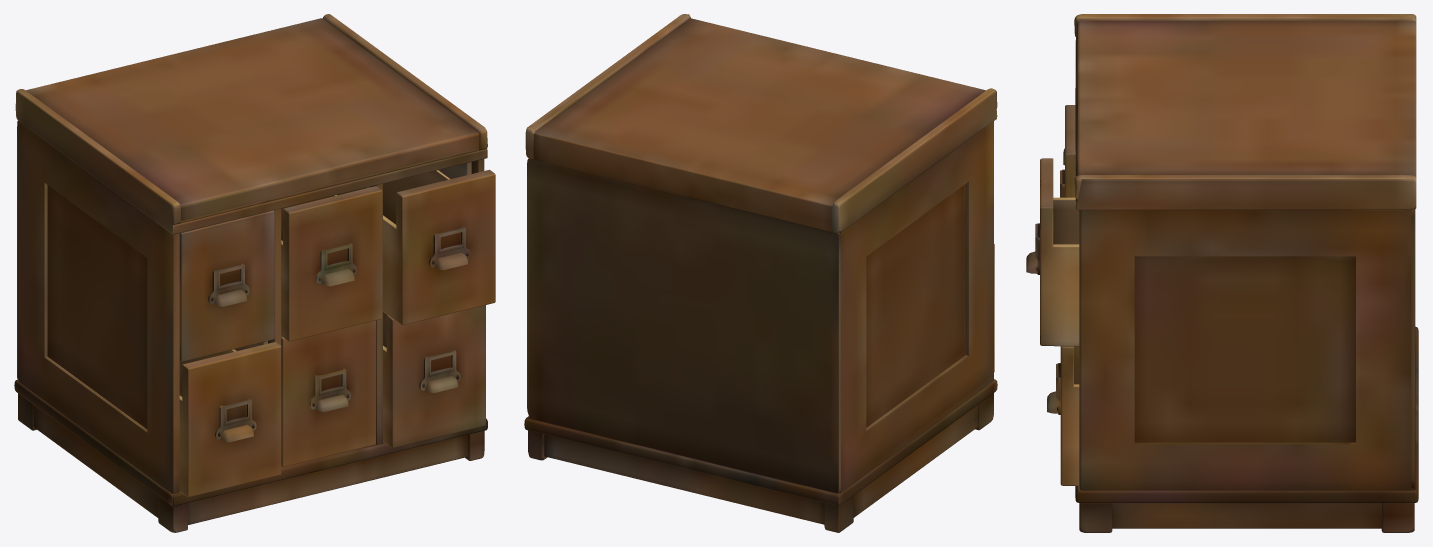
Rendered from ph-vintage-wooden-drawer-01.glb.
3 renders of one model, left to right at view 1: azimuth 30°, elevation 25°; view 2: azimuth 150°, elevation 25°; view 3: azimuth 270°, elevation 25°, orthographic. The views are drawn at different scales.
Parts seen in each view (by area): view 1: vintage_wooden_drawer_01_body; view 2: vintage_wooden_drawer_01_body; view 3: vintage_wooden_drawer_01_body.
Boxes of the visible parts, bbox=[...] form: vintage_wooden_drawer_01_body: bbox=[14, 14, 495, 532]; vintage_wooden_drawer_01_body: bbox=[524, 14, 997, 532]; vintage_wooden_drawer_01_body: bbox=[1026, 14, 1418, 532].
Bounding box in the file's own units: 1 × 1 × 1.
Materials: 1 (1 with a texture image).
